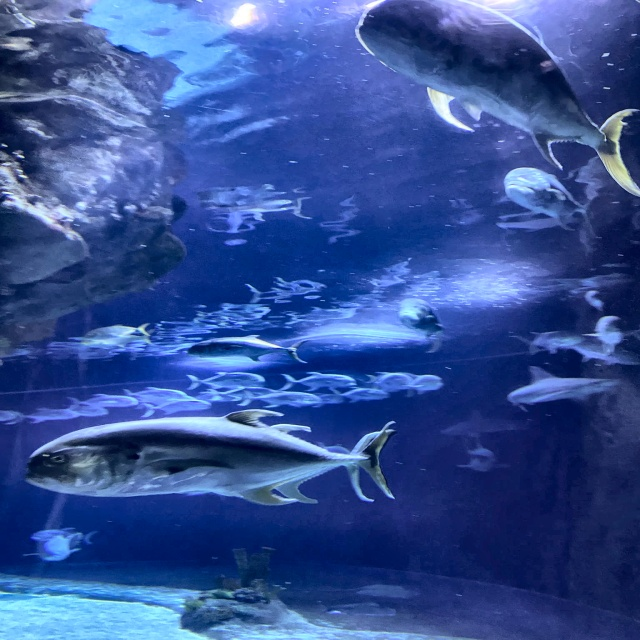fish: (357, 0, 639, 198), (22, 408, 396, 505), (504, 167, 592, 231), (187, 334, 310, 363), (400, 297, 445, 342), (80, 323, 153, 348), (511, 332, 584, 354), (238, 390, 320, 409), (281, 372, 356, 392), (585, 317, 639, 344), (23, 535, 80, 560), (140, 398, 210, 418), (187, 373, 264, 389), (32, 528, 97, 544), (66, 394, 138, 408), (366, 372, 412, 392), (122, 388, 187, 402), (330, 388, 390, 402), (22, 408, 78, 422), (410, 375, 443, 394), (300, 394, 344, 407), (195, 391, 238, 402), (67, 408, 108, 416), (0, 410, 20, 422)
shark: (507, 366, 618, 411), (441, 408, 529, 437), (458, 441, 510, 472)
stingray: (325, 603, 397, 617)
